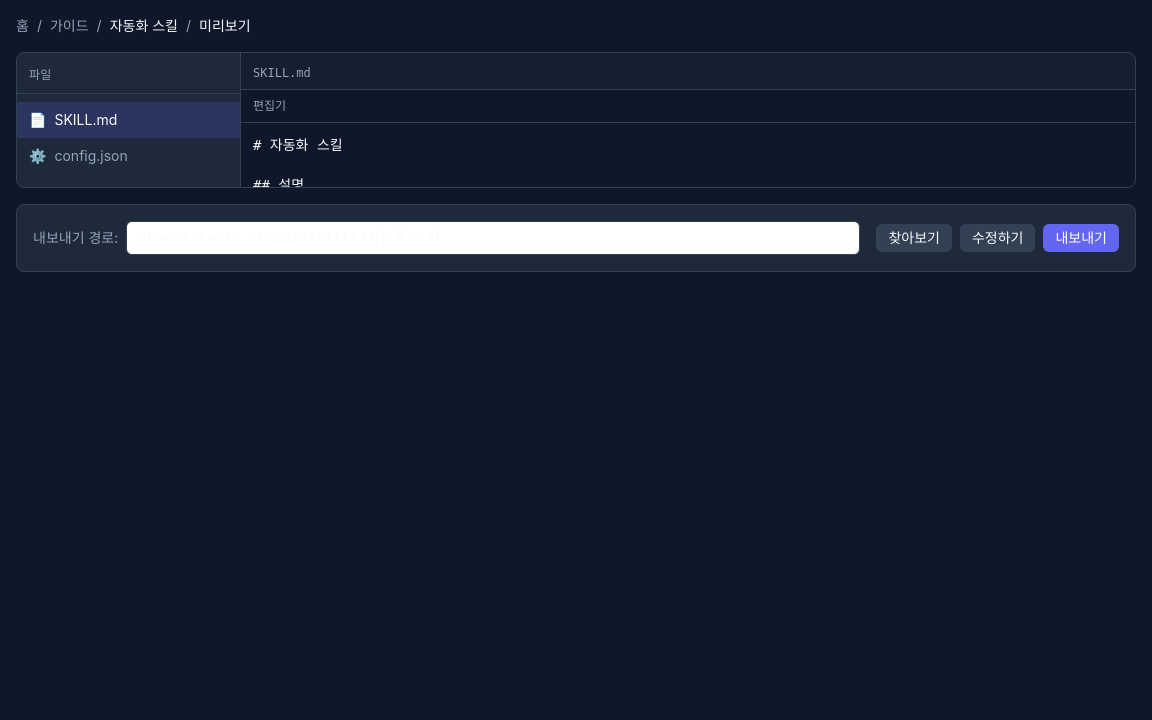
Preview Integration › 시나리오 3: 내보내기 플로우 › 내보내기 실패 시 에러 메시지를 표시한다
Click the button "내보내기" at (1081, 238), box [1044,224,1119,252]
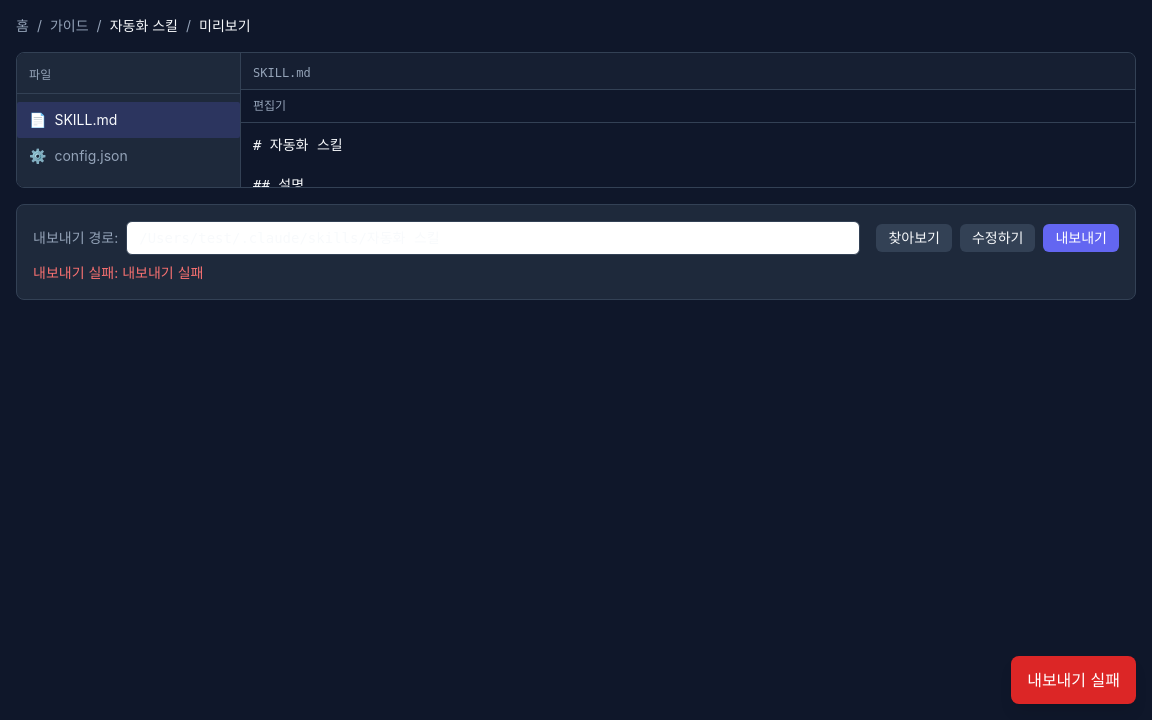
Check: the text "내보내기 실패: 내보내기 실패" is shown, box [33,264,203,281]
